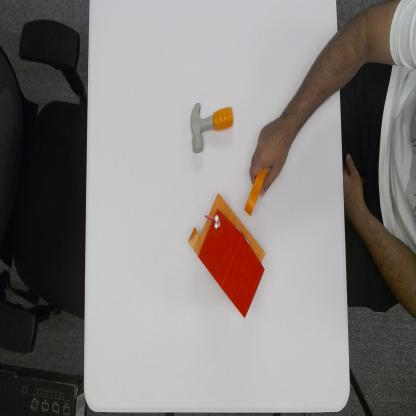Arm: (288, 18, 346, 146)
Hammer: (190, 102, 234, 155)
Hand: (248, 112, 290, 196)
House: (187, 190, 265, 320)
Screwdriver: (245, 169, 269, 216)
